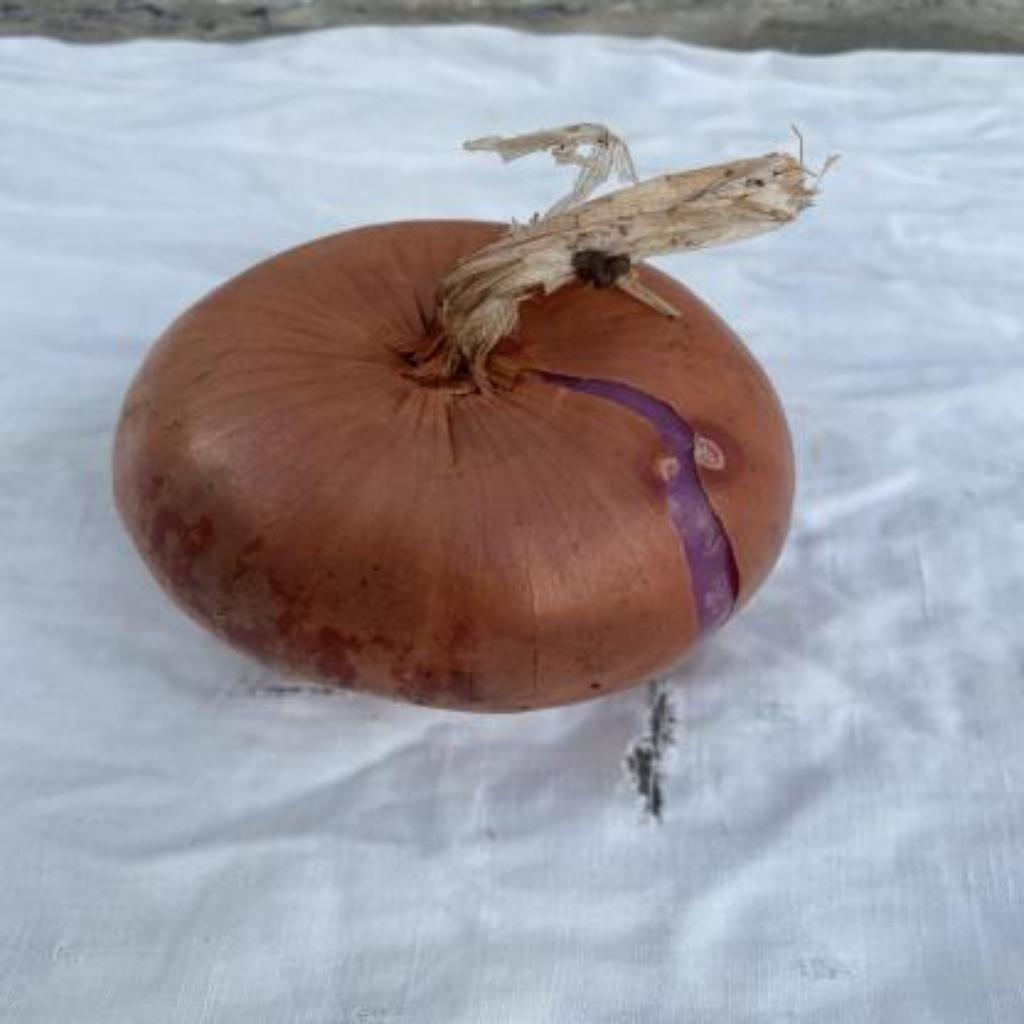Onion: (116, 123, 833, 713)
